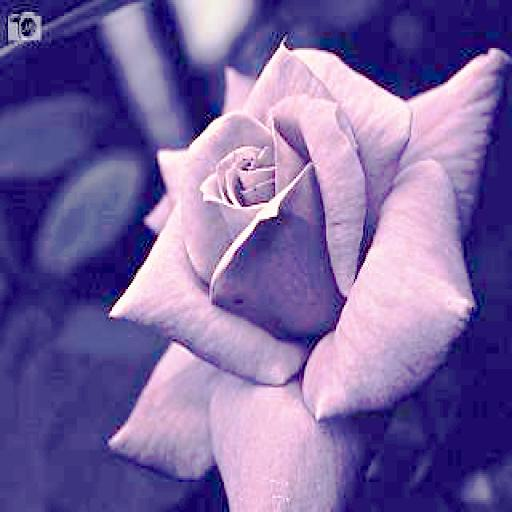rose: (110, 36, 512, 512)
